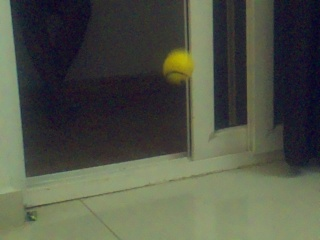ball: (163, 49, 193, 84)
